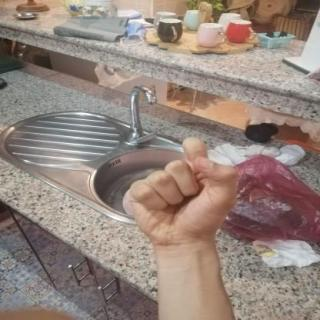FAA: (110, 131, 252, 254)
